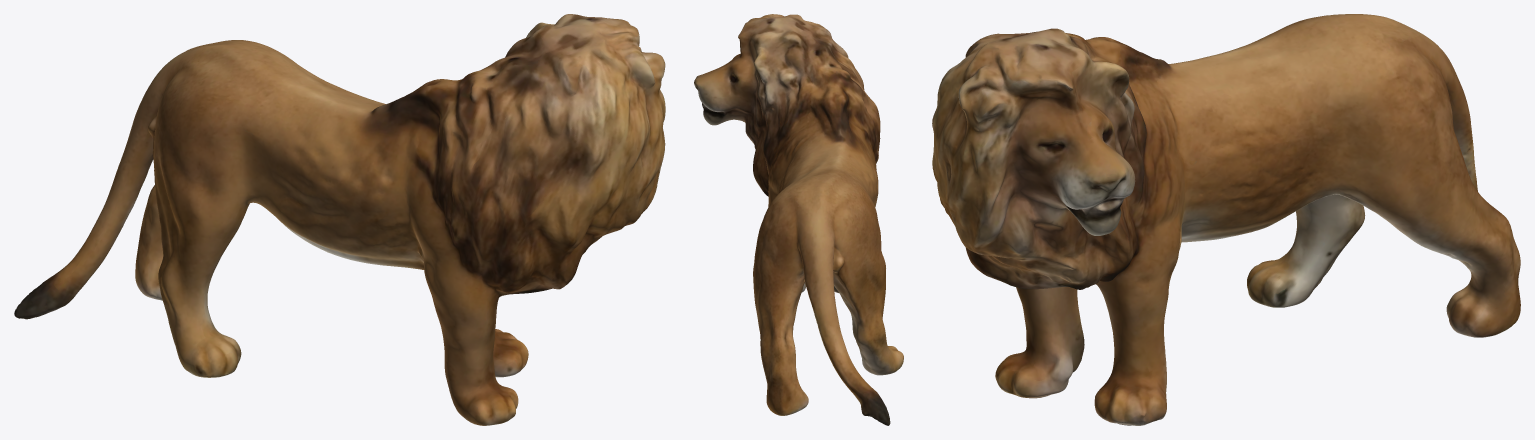
File: Schleich_Lion_Action_Figure.glb
The picture shows the model from 3 angles, left to right: view 1: azimuth 30°, elevation 25°; view 2: azimuth 150°, elevation 25°; view 3: azimuth 270°, elevation 25°; orthographic projection. The views are drawn at different scales.
Visible parts, largest first — view 1: geometry_0; view 2: geometry_0; view 3: geometry_0.
Boxes of the visible parts, x1,y1,x2,y2 form: geometry_0: [14, 14, 665, 425]; geometry_0: [694, 14, 903, 425]; geometry_0: [932, 14, 1520, 425].
Size of the model in its own units: 0.8881 by 0.6881 by 0.9053.
Materials: 1 (1 with a texture image).
